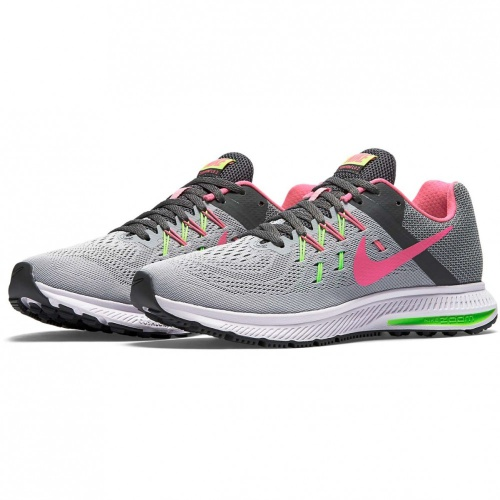nike: (348, 222, 458, 290)
